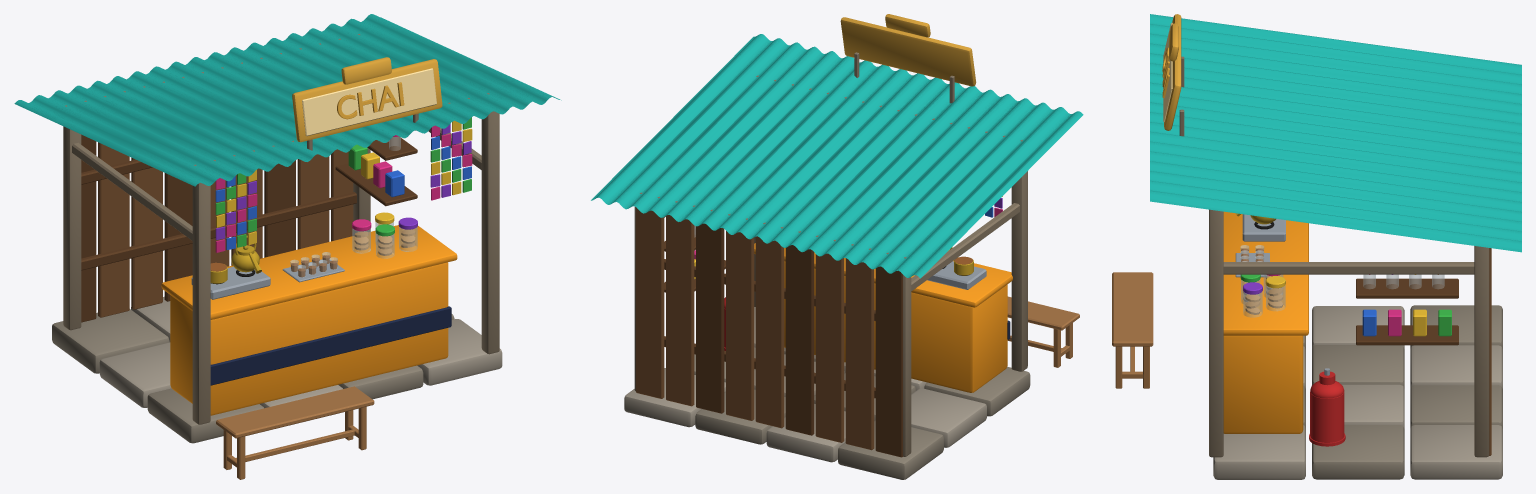
File: chai-tapri.glb
The picture shows the model from 3 angles, left to right: view 1: azimuth 30°, elevation 25°; view 2: azimuth 150°, elevation 25°; view 3: azimuth 270°, elevation 25°; orthographic projection. The views are drawn at different scales.
Parts seen in each view (by area): view 1: ChaiTapri; view 2: ChaiTapri; view 3: ChaiTapri.
Part boxes in pixels (x1,y1,x2,y2): ChaiTapri: (14,14,561,479); ChaiTapri: (591,14,1083,479); ChaiTapri: (1112,14,1521,479).
Size of the model in its own units: 3.8 by 3.56 by 3.58.
